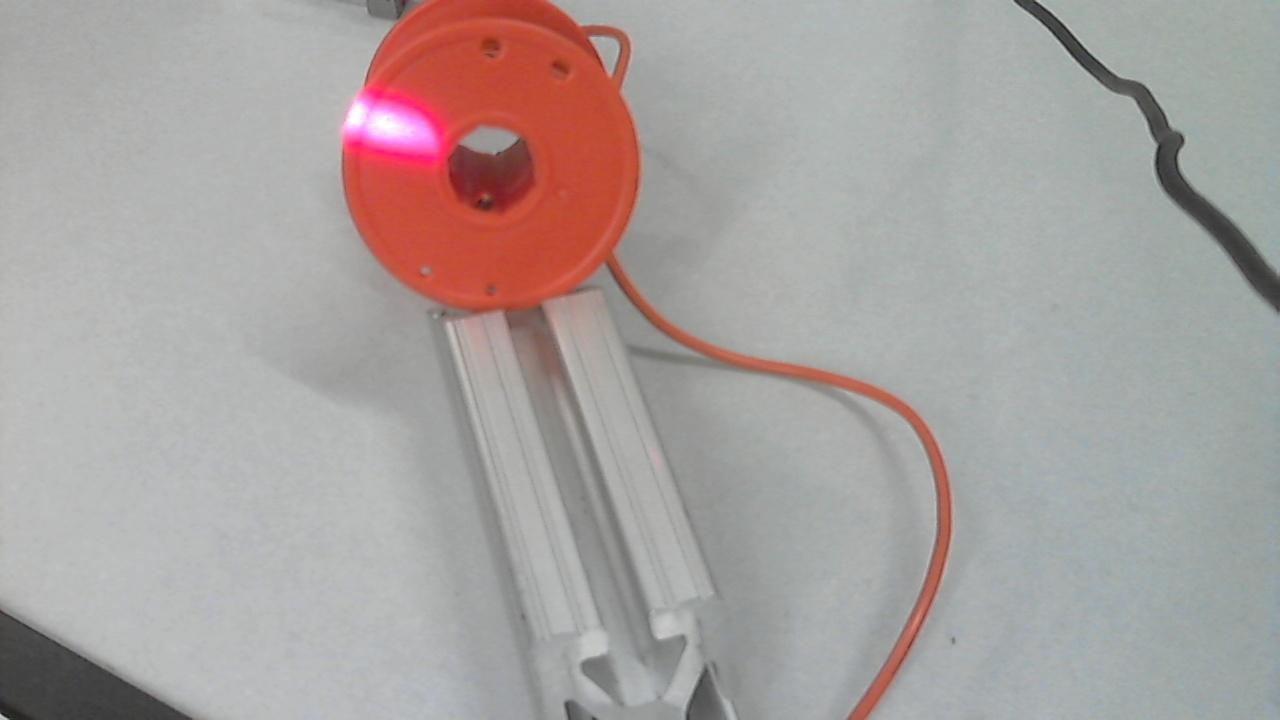Object wire spool -Material plastic - Color oranges - Pdfname ZryFz3DBSiO8: (334, 92, 458, 175)
